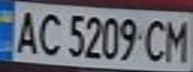0: (100, 14, 121, 61)
2: (81, 12, 106, 61)
5: (63, 10, 87, 60)
9: (118, 15, 142, 62)
A: (9, 7, 42, 55)
C: (33, 9, 66, 57), (139, 16, 172, 64)
M: (160, 16, 193, 63)
